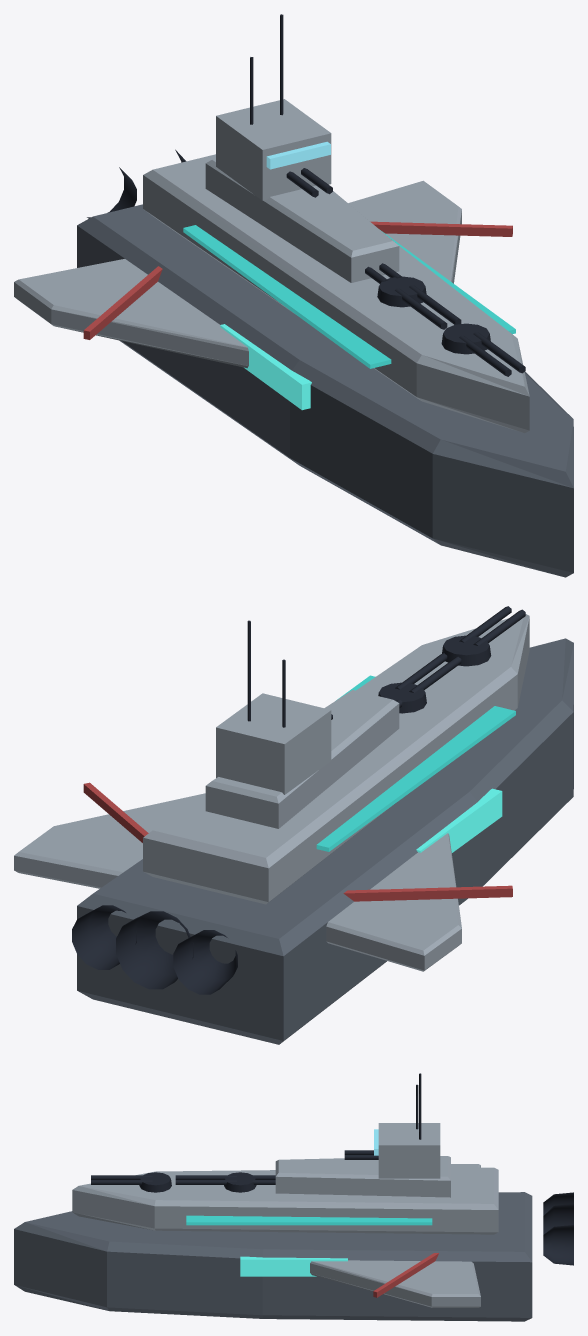
Rendered from cruiser.glb.
3 renders of one model, top to bottom at view 1: azimuth 30°, elevation 25°; view 2: azimuth 150°, elevation 25°; view 3: azimuth 270°, elevation 25°, orthographic. The views are drawn at different scales.
Visible parts, largest first — view 1: cruiser; view 2: cruiser; view 3: cruiser.
Boxes of the visible parts, x1,y1,x2,y2 form: cruiser: (14, 14, 573, 577); cruiser: (14, 606, 573, 1044); cruiser: (14, 1073, 573, 1321).
Bounding box in the file's own units: 2.12 × 1.6 × 3.64.
